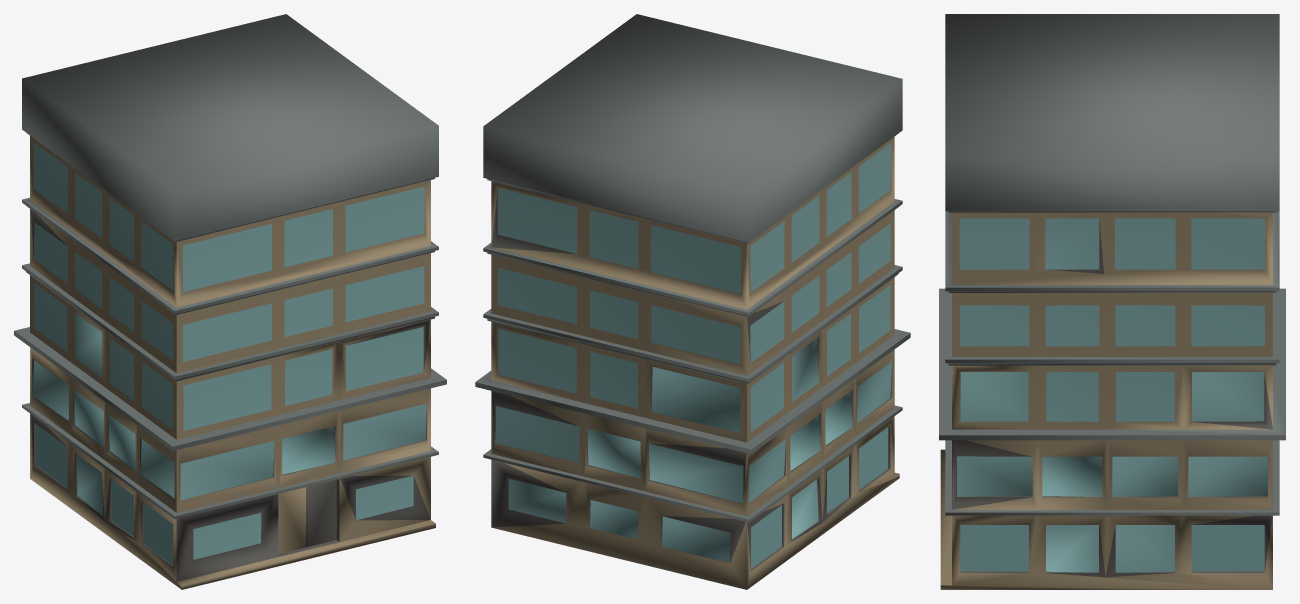
The model's file is ScyscraperReduced.fbx.
The picture shows the model from 3 angles, left to right: view 1: azimuth 30°, elevation 25°; view 2: azimuth 150°, elevation 25°; view 3: azimuth 270°, elevation 25°; orthographic projection. The views are drawn at different scales.
Parts seen in each view (by area): view 1: Skyscraper; view 2: Skyscraper; view 3: Skyscraper.
Part boxes in pixels (bbox=[...]): Skyscraper: bbox=[14, 14, 446, 589]; Skyscraper: bbox=[475, 14, 910, 589]; Skyscraper: bbox=[939, 14, 1285, 589].
Size of the model in its own units: 216 by 301 by 216.
